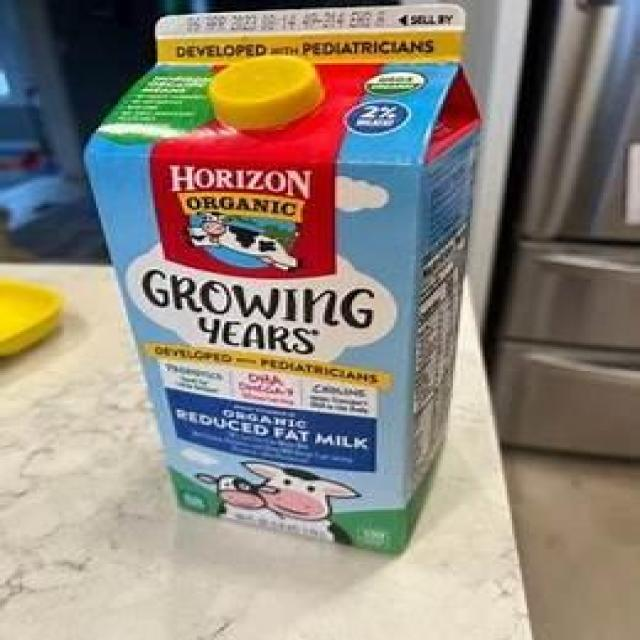drink carton: (81, 2, 482, 559)
plastic bottle cap: (209, 56, 327, 130)
